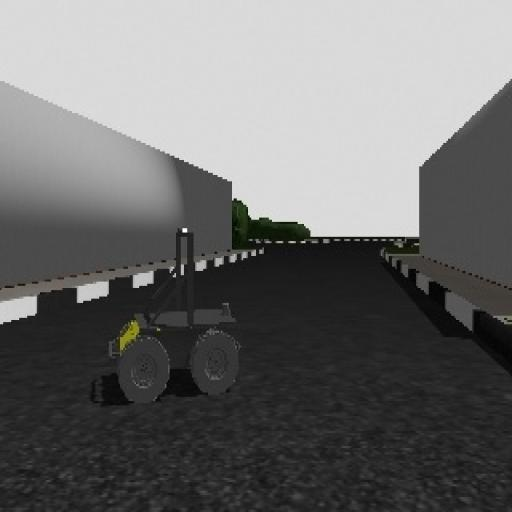huskya200: (94, 222, 252, 431)
